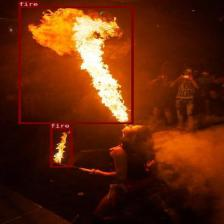fire: (18, 7, 133, 124), (50, 128, 72, 167)
